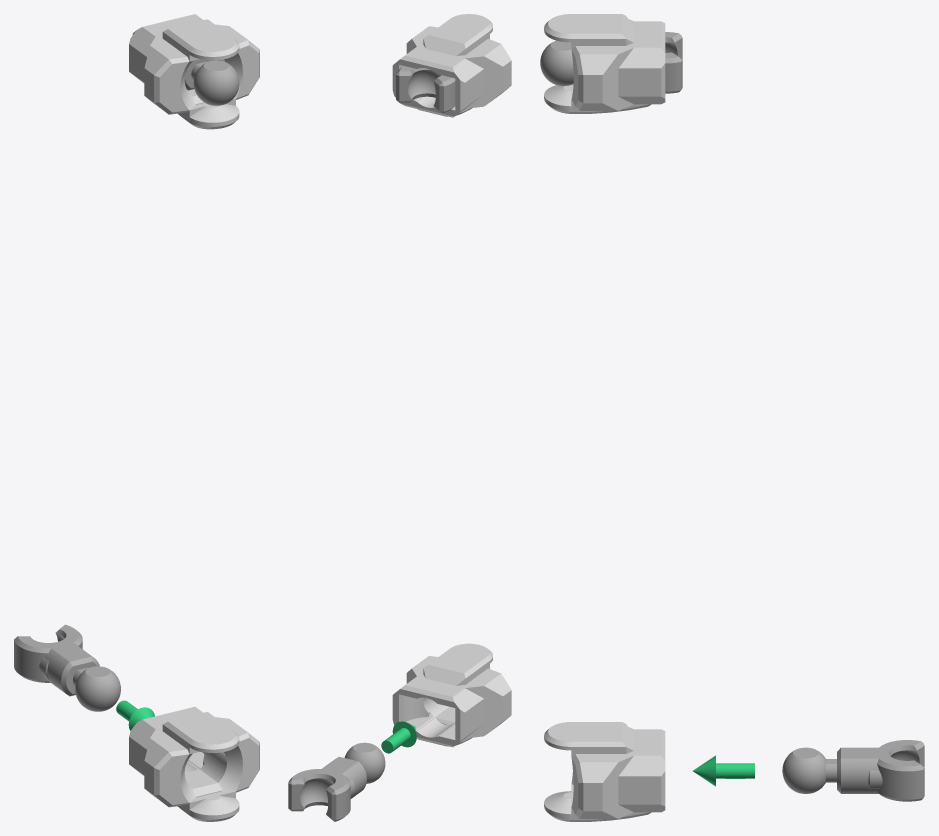
File: waist.glb
The picture shows the model from 3 angles, left to right: view 1: azimuth 30°, elevation 25°; view 2: azimuth 150°, elevation 25°; view 3: azimuth 270°, elevation 25°; orthographic projection. The views are drawn at different scales.
Visible parts, largest first — view 1: Body1.017, Body1.013, Body1.016, Body1.015, Body1.011, Body1.012, Arrow.002; view 2: Body1.017, Body1.013, Body1.016, Body1.015, Body1.012, Body1.011, Arrow.002; view 3: Body1.017, Body1.013, Body1.016, Body1.011, Body1.015, Body1.012, Arrow.002.
Boxes of the visible parts, x1,y1,x2,y2 form: Body1.017: (129, 706, 253, 821); Body1.013: (129, 14, 253, 129); Body1.016: (14, 624, 120, 711); Body1.015: (144, 717, 259, 818); Body1.011: (144, 25, 259, 124); Body1.012: (132, 30, 239, 105); Arrow.002: (116, 700, 154, 730); Body1.017: (392, 643, 495, 747); Body1.013: (392, 14, 494, 117); Body1.016: (288, 742, 385, 821); Body1.015: (406, 652, 511, 742); Body1.012: (396, 66, 455, 113); Body1.011: (406, 22, 511, 112); Arrow.002: (381, 721, 416, 753); Body1.017: (544, 722, 665, 821); Body1.013: (544, 14, 665, 113); Body1.016: (782, 740, 924, 801); Body1.011: (544, 20, 633, 110); Body1.015: (546, 729, 633, 818); Body1.012: (540, 32, 682, 93); Arrow.002: (693, 755, 754, 786).
Bounding box in the file's own units: 16 × 111 × 49.22.
